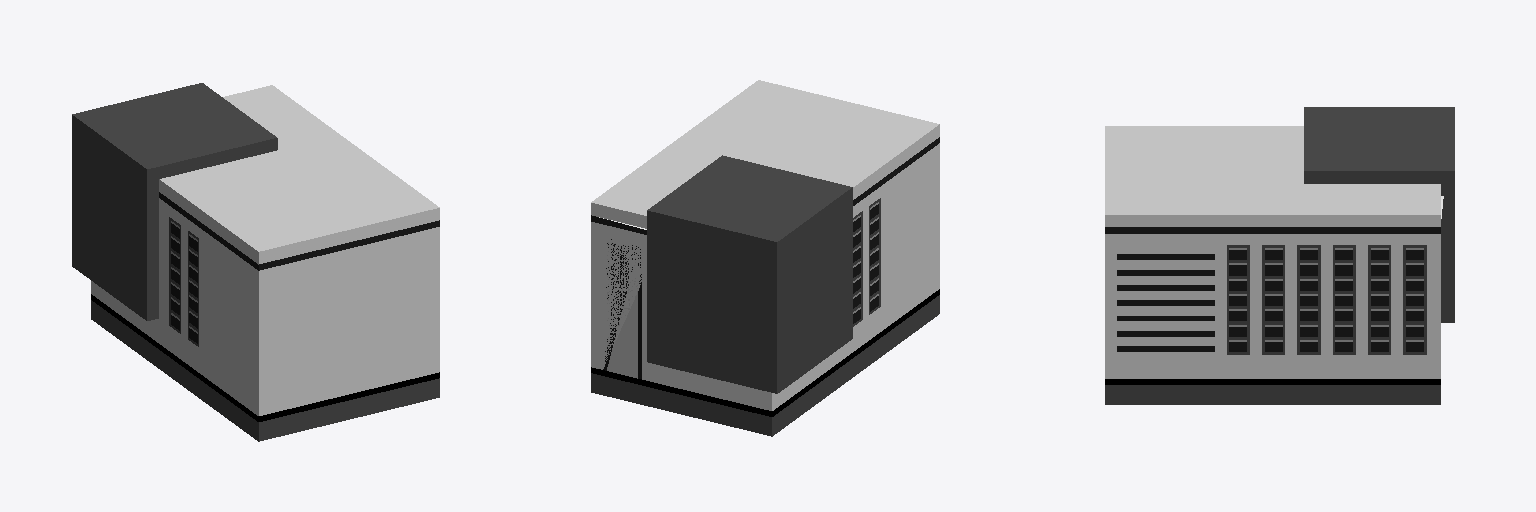
File: budova2.obj
3 views of the same model, side by side, from view 1: azimuth 30°, elevation 25°; view 2: azimuth 150°, elevation 25°; view 3: azimuth 270°, elevation 25° (orthographic).
Visible parts, largest first — view 1: Mesh1 Model; view 2: Mesh1 Model; view 3: Mesh1 Model.
Boxes of the visible parts, x1,y1,x2,y2 form: Mesh1 Model: [72, 83, 439, 441]; Mesh1 Model: [591, 80, 939, 436]; Mesh1 Model: [1105, 107, 1454, 404].
Bounding box in the file's own units: 16 × 16 × 25.